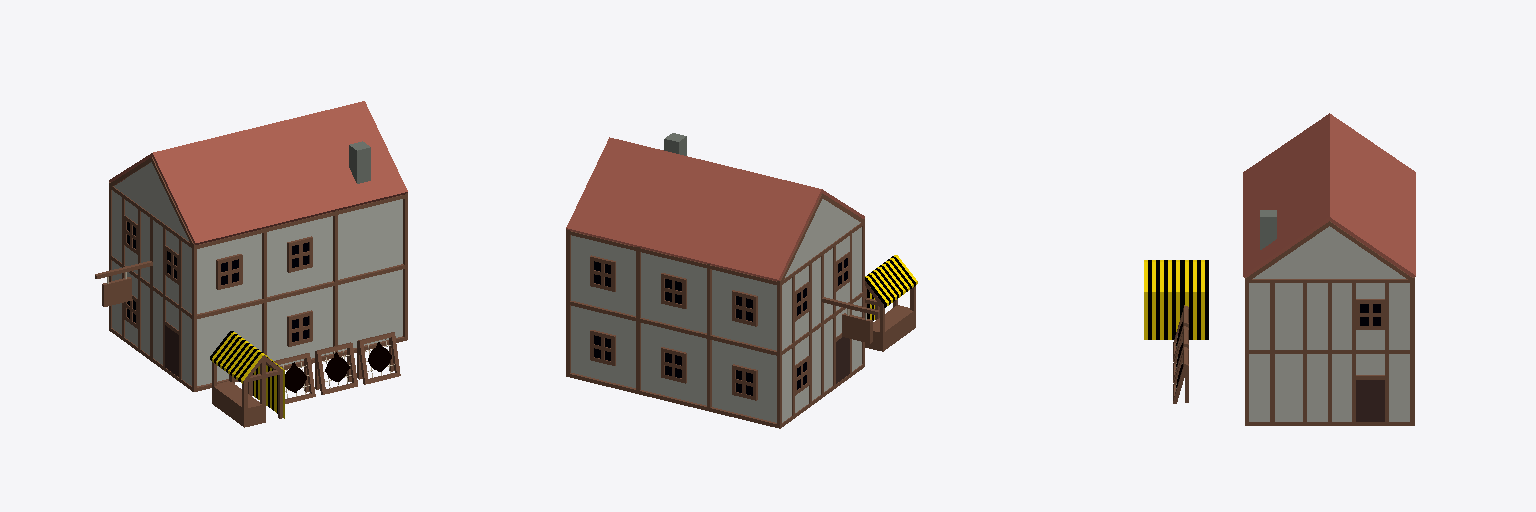
The model's file is timberframedtanner_black_yellow.obj.
3 views of the same model, side by side, from view 1: azimuth 30°, elevation 25°; view 2: azimuth 150°, elevation 25°; view 3: azimuth 270°, elevation 25° (orthographic).
Parts seen in each view (by area): view 1: Cube.005, Cube.007_Cube.011, Cylinder.001_Cylinder.008, Cylinder.003_Cylinder.001, Cylinder.004_Cylinder.009, Cube.011_Cube.015, Cube.018_Cube.016, Cube.056_Cube.081, Cube.001_Cube.058, Cube.013_Cube.080, Cube.006_Cube.010, Cube.026_Cube.019 (+7 smaller); view 2: Cube.005, Cube.007_Cube.011, Cube.023_Cube.026, Cube.022_Cube.025, Cube.021_Cube.024, Cube.015_Cube.020, Cube.019_Cube.022, Cube.017_Cube.021, Cube.014_Cube.018, Cube.008, Cube.020_Cube.023, Cube.073_Cube.078 (+6 smaller); view 3: Cube.005, Cube.007_Cube.011, Cube.147_Cube.153, Cube.003, Cube.033, Cube.027, Cube.047_Cube.049, Cube.016_Cube.013, Cube.031, Cube.006_Cube.010, Cube.032, Cylinder.001_Cylinder.008 (+5 smaller).
Boxes of the visible parts, box(x1,y1,x2,y2) form: Cube.005: box(112, 162, 402, 385); Cube.007_Cube.011: box(109, 101, 407, 244); Cylinder.001_Cylinder.008: box(357, 332, 400, 384); Cylinder.003_Cylinder.001: box(315, 342, 357, 394); Cylinder.004_Cylinder.009: box(274, 353, 315, 403); Cube.011_Cube.015: box(195, 264, 406, 319); Cube.018_Cube.016: box(195, 195, 406, 249); Cube.056_Cube.081: box(216, 254, 242, 289); Cube.001_Cube.058: box(287, 310, 312, 346); Cube.013_Cube.080: box(287, 236, 312, 272); Cube.006_Cube.010: box(349, 141, 370, 183); Cube.026_Cube.019: box(192, 243, 196, 391); Cube.005: box(571, 199, 861, 422); Cube.007_Cube.011: box(566, 137, 864, 280); Cube.023_Cube.026: box(567, 373, 779, 427); Cube.022_Cube.025: box(567, 301, 776, 355); Cube.021_Cube.024: box(567, 231, 777, 284); Cube.015_Cube.020: box(732, 290, 757, 326); Cube.019_Cube.022: box(661, 347, 686, 383); Cube.017_Cube.021: box(590, 330, 615, 365); Cube.014_Cube.018: box(661, 273, 686, 308); Cube.008: box(590, 255, 615, 291); Cube.020_Cube.023: box(732, 364, 757, 400); Cube.073_Cube.078: box(842, 313, 872, 343); Cube.005: box(1249, 226, 1409, 421); Cube.007_Cube.011: box(1243, 113, 1415, 277); Cube.147_Cube.153: box(1144, 292, 1208, 339); Cube.003: box(1356, 380, 1384, 421); Cube.033: box(1356, 299, 1384, 329); Cube.027: box(1410, 277, 1414, 425); Cube.047_Cube.049: box(1270, 279, 1274, 423); Cube.016_Cube.013: box(1248, 350, 1410, 353); Cube.031: box(1248, 422, 1410, 425); Cube.006_Cube.010: box(1260, 210, 1276, 249); Cube.032: box(1248, 279, 1410, 282); Cylinder.001_Cylinder.008: box(1173, 347, 1188, 403).
Bounding box in the file's own units: 15.3 × 11.25 × 13.34.